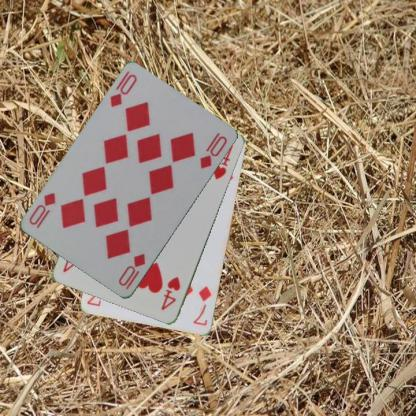10d: (107, 68, 139, 109), (116, 251, 146, 292)
4h: (158, 274, 182, 312)
7d: (191, 283, 213, 328)
